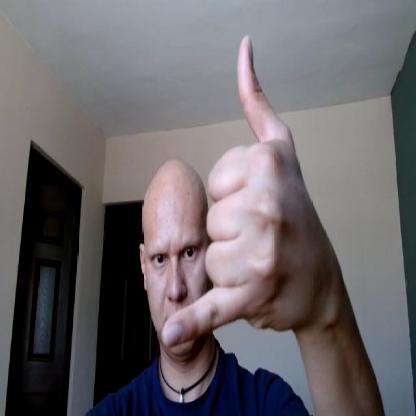Y: (162, 34, 318, 347)
